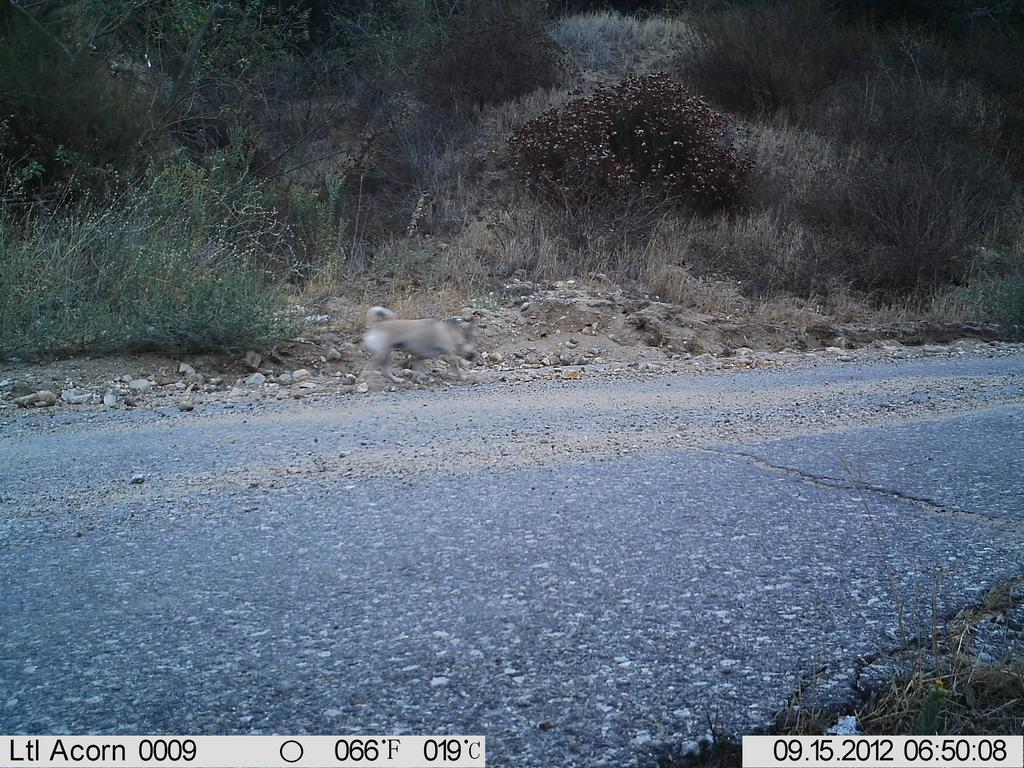dog: (354, 304, 482, 386)
